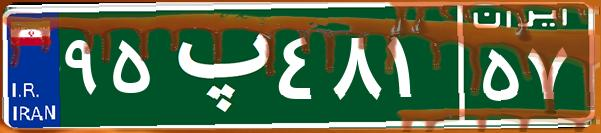1: (385, 28, 445, 110)
4: (273, 28, 330, 110)
5: (475, 38, 525, 113), (110, 28, 158, 105)
7: (525, 38, 570, 115)
8: (330, 28, 385, 110)
9: (57, 26, 110, 107)
پ: (158, 15, 273, 115)
